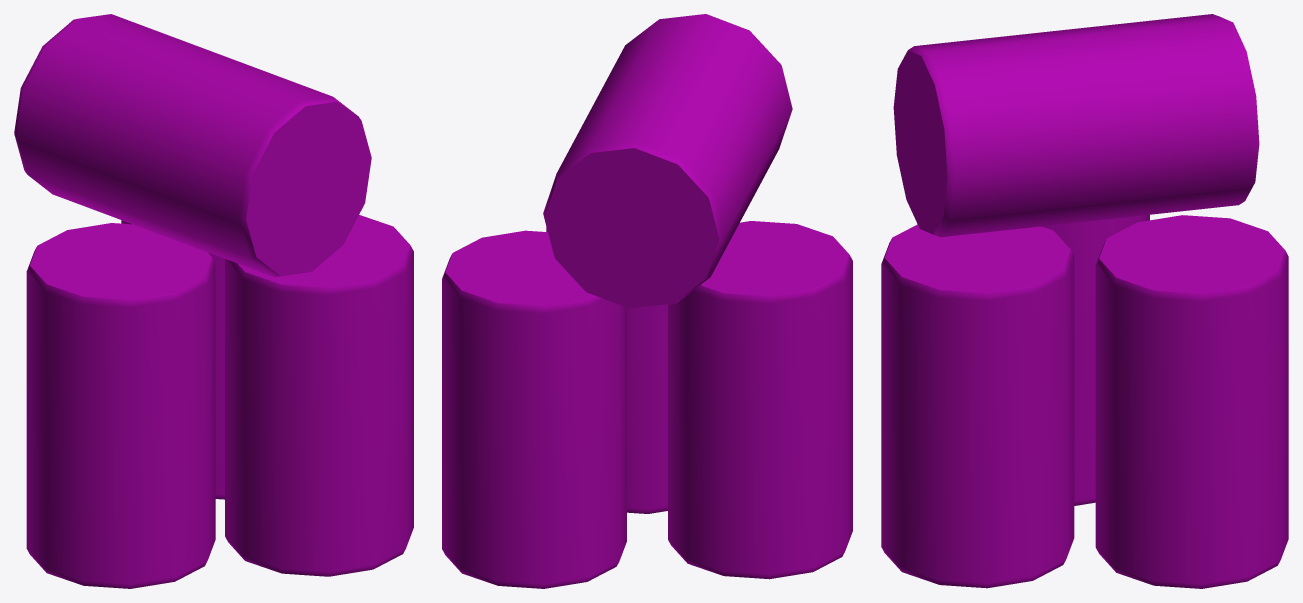
File: Barrels_Prefab.fbx
3 renders of one model, left to right at view 1: azimuth 30°, elevation 25°; view 2: azimuth 150°, elevation 25°; view 3: azimuth 270°, elevation 25°, orthographic. The views are drawn at different scales.
Parts seen in each view (by area): view 1: Barrels_Prefab; view 2: Barrels_Prefab; view 3: Barrels_Prefab.
Boxes of the visible parts, x1,y1,x2,y2 form: Barrels_Prefab: (14,14,413,588); Barrels_Prefab: (442,14,852,588); Barrels_Prefab: (881,14,1288,588).
Bounding box in the file's own units: 1.95 × 2.65 × 2.06.
